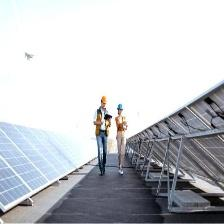Person: (93, 96, 113, 178), (114, 102, 129, 175)
helmet: (101, 95, 108, 105), (117, 102, 124, 111)
no-vest: (97, 109, 110, 137), (117, 116, 127, 130)
